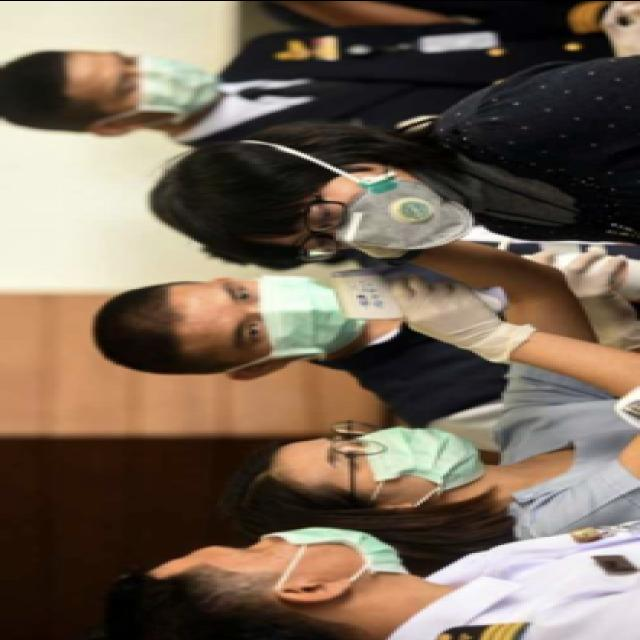with_mask: (286, 178, 472, 260), (208, 274, 364, 362), (316, 426, 490, 498), (208, 528, 406, 579), (101, 56, 218, 118)
